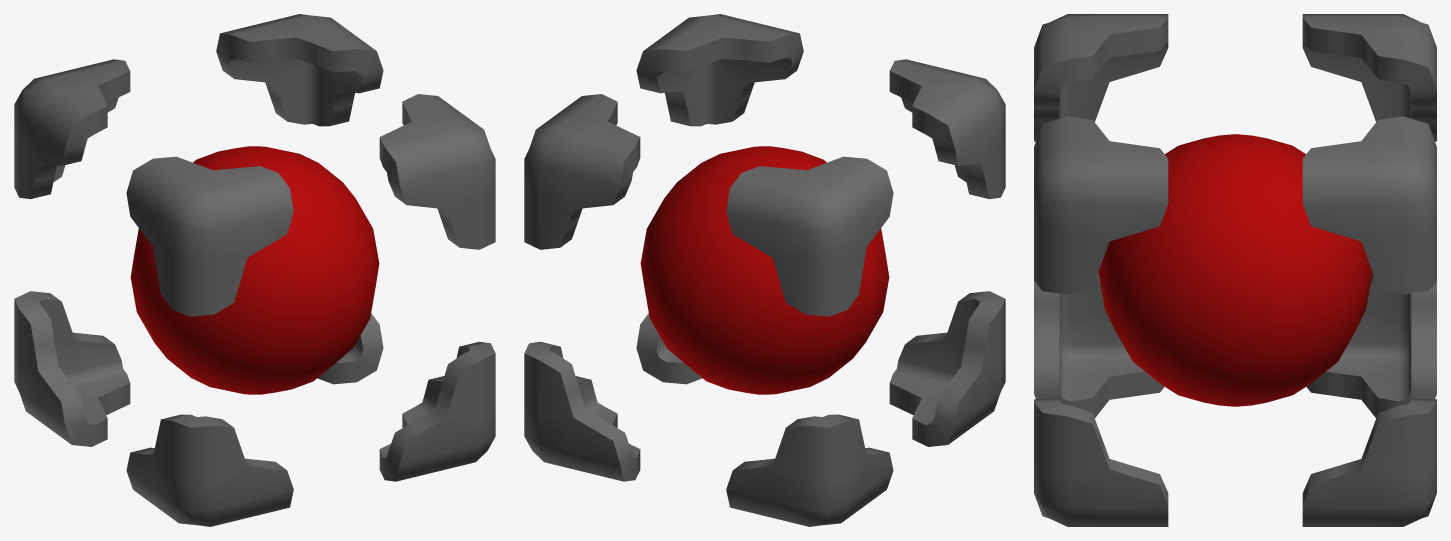
The model's file is pickup-sphere.glb.
3 views of the same model, side by side, from view 1: azimuth 30°, elevation 25°; view 2: azimuth 150°, elevation 25°; view 3: azimuth 270°, elevation 25° (orthographic). The views are drawn at different scales.
Parts seen in each view (by area): view 1: Pickup_Sphere; view 2: Pickup_Sphere; view 3: Pickup_Sphere.
Boxes of the visible parts, x1,y1,x2,y2 form: Pickup_Sphere: [14, 14, 495, 526]; Pickup_Sphere: [524, 14, 1005, 526]; Pickup_Sphere: [1034, 14, 1436, 526].
Bounding box in the file's own units: 0.8856 × 0.8856 × 0.8856.
1 material, 1 textured.
